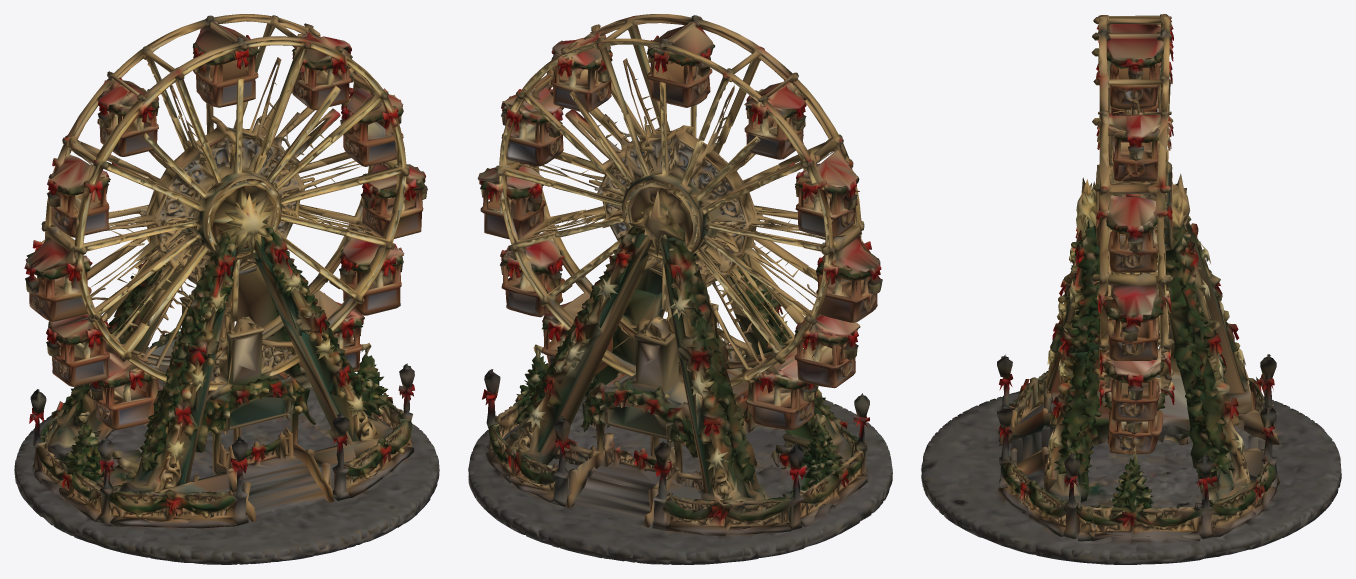
The model's file is ferris-parts.glb.
3 views of the same model, side by side, from view 1: azimuth 30°, elevation 25°; view 2: azimuth 150°, elevation 25°; view 3: azimuth 270°, elevation 25° (orthographic).
Parts seen in each view (by area): view 1: model_part20, model_part19, model_part17, model_part18, model_part16, model_part15, model_part4, model_part14, model_part6, model_part7, model_part2, model_part11 (+8 smaller); view 2: model_part20, model_part19, model_part17, model_part18, model_part14, model_part6, model_part2, model_part11, model_part0, model_part13, model_part9, model_part3 (+7 smaller); view 3: model_part17, model_part20, model_part16, model_part18, model_part13, model_part6, model_part10, model_part19, model_part7, model_part9, model_part12, model_part8 (+3 smaller).
Part boxes in pixels (x1,y1,x2,y2): model_part20: [29, 248, 399, 528]; model_part19: [87, 57, 361, 362]; model_part17: [14, 387, 439, 564]; model_part18: [32, 14, 416, 390]; model_part16: [281, 317, 414, 500]; model_part15: [113, 340, 216, 492]; model_part4: [154, 238, 237, 370]; model_part14: [24, 224, 105, 321]; model_part6: [192, 20, 259, 107]; model_part7: [255, 224, 327, 340]; model_part2: [88, 343, 159, 429]; model_part11: [46, 314, 110, 386]; model_part20: [482, 231, 869, 535]; model_part19: [518, 58, 817, 365]; model_part17: [468, 396, 892, 564]; model_part18: [486, 14, 864, 393]; model_part14: [807, 226, 882, 322]; model_part6: [646, 21, 714, 107]; model_part2: [745, 348, 817, 430]; model_part11: [794, 314, 860, 388]; model_part0: [795, 150, 859, 238]; model_part13: [477, 159, 555, 239]; model_part9: [550, 33, 612, 112]; model_part3: [744, 76, 806, 159]; model_part17: [921, 391, 1341, 564]; model_part20: [997, 216, 1279, 541]; model_part16: [997, 349, 1102, 541]; model_part18: [1091, 14, 1174, 405]; model_part13: [1103, 272, 1164, 360]; model_part6: [1099, 32, 1173, 109]; model_part10: [1106, 195, 1158, 272]; model_part19: [1076, 75, 1190, 339]; model_part7: [1058, 226, 1099, 357]; model_part9: [1108, 112, 1160, 181]; model_part12: [1104, 347, 1163, 421]; model_part8: [1104, 377, 1165, 454].
Size of the model in its own units: 1.77 by 1.9 by 1.62.
